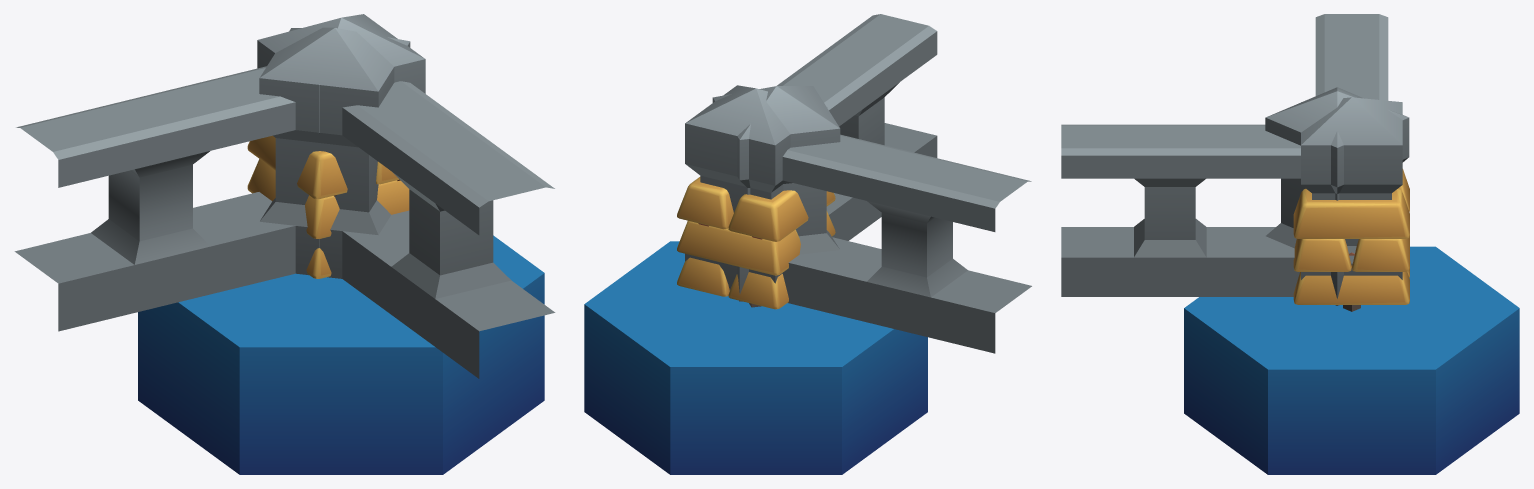
The model's file is holding-fountain.glb.
The picture shows the model from 3 angles, left to right: view 1: azimuth 30°, elevation 25°; view 2: azimuth 150°, elevation 25°; view 3: azimuth 270°, elevation 25°; orthographic projection. The views are drawn at different scales.
Visible parts, largest first — view 1: barrier_corner, hex_water, Gold_Bars_Stack_Small, column; view 2: hex_water, barrier_corner, Gold_Bars_Stack_Small, column; view 3: hex_water, barrier_corner, Gold_Bars_Stack_Small, column.
Part boxes in pixels (box(x1,y1,x2,y2)): barrier_corner: box(14, 27, 555, 378); hex_water: box(138, 235, 544, 474); Gold_Bars_Stack_Small: box(247, 135, 409, 278); column: box(257, 14, 425, 248); hex_water: box(584, 241, 927, 474); barrier_corner: box(712, 14, 1031, 353); Gold_Bars_Stack_Small: box(677, 177, 835, 309); column: box(685, 85, 826, 290); hex_water: box(1184, 246, 1519, 474); barrier_corner: box(1061, 14, 1409, 305); Gold_Bars_Stack_Small: box(1293, 169, 1409, 304); column: box(1301, 97, 1402, 279).
Size of the model in its own units: 3 by 2.4 by 3.15.
Materials: 3 (3 with a texture image).
